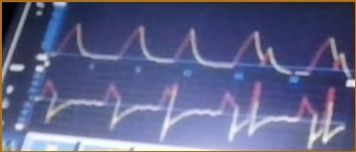Double_Triggering Flow: (34, 79, 345, 149)
Double_Triggering Volume: (53, 21, 349, 76)
